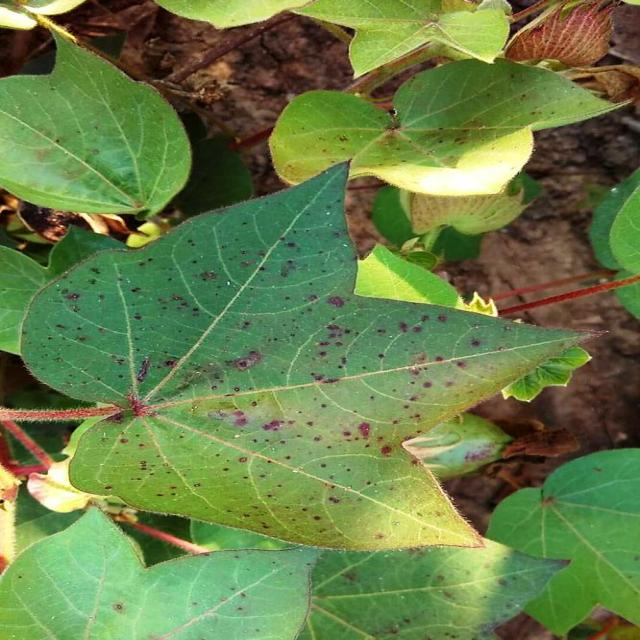Bacterial Blight: (85, 288, 358, 464)
